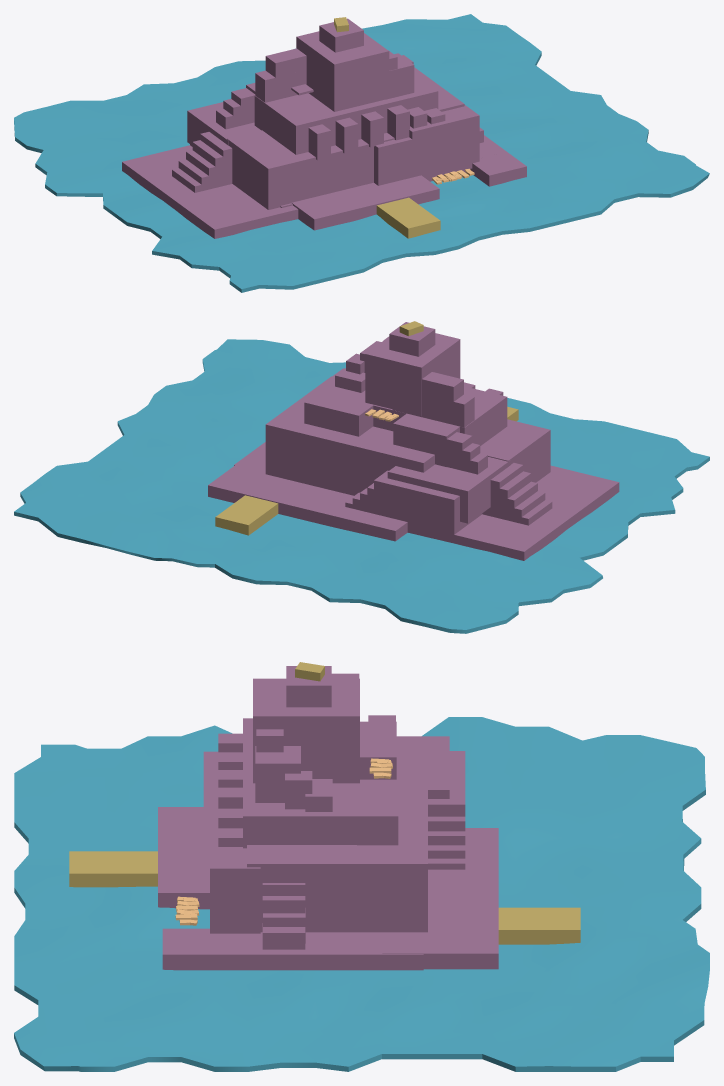
Rendered from Mountain.fbx.
3 views of the same model, one above another, from view 1: azimuth 30°, elevation 25°; view 2: azimuth 150°, elevation 25°; view 3: azimuth 270°, elevation 25° (orthographic). The views are drawn at different scales.
Visible parts, largest first — view 1: Cube_1; view 2: Cube_1; view 3: Cube_1.
Part boxes in pixels (x1,y1,x2,y2): Cube_1: (14, 14, 709, 292); Cube_1: (14, 321, 709, 633); Cube_1: (14, 662, 709, 1071).
Bounding box in the file's own units: 8901 × 3400 × 7469.
